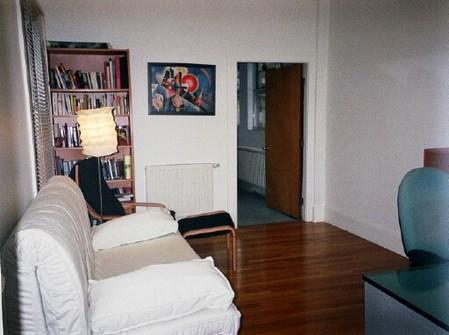Otro Obstaculo: (143, 162, 216, 212)
Puerta: (264, 69, 303, 216)
